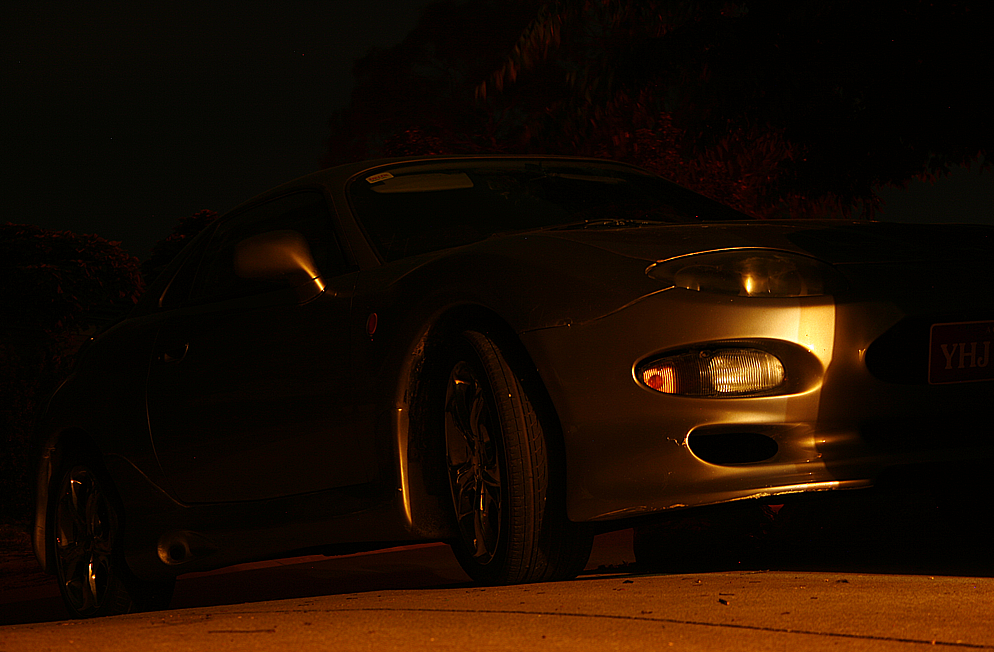car: (36, 145, 984, 624)
